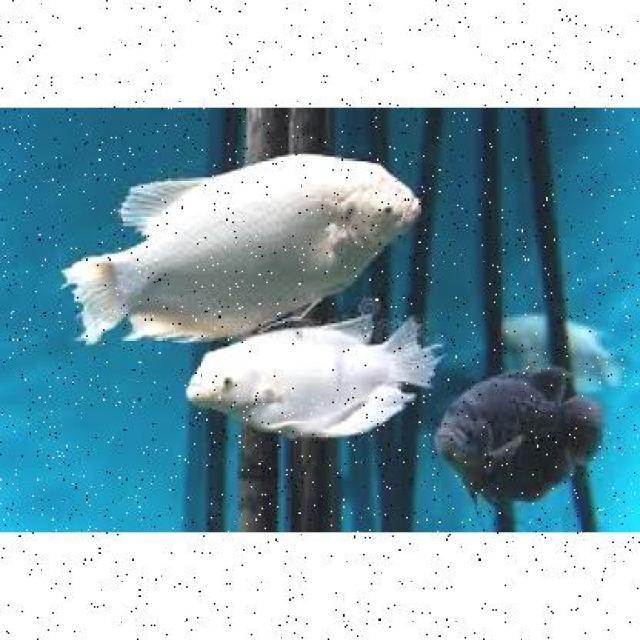gurame: (76, 150, 429, 333), (184, 336, 407, 442)
